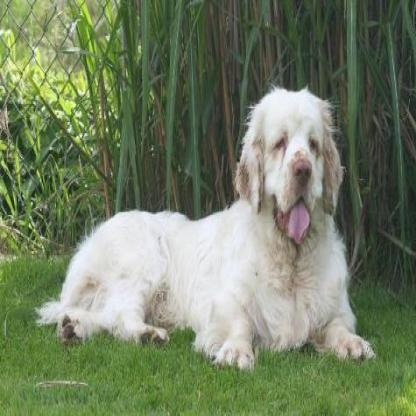clumber: (34, 86, 375, 369)
